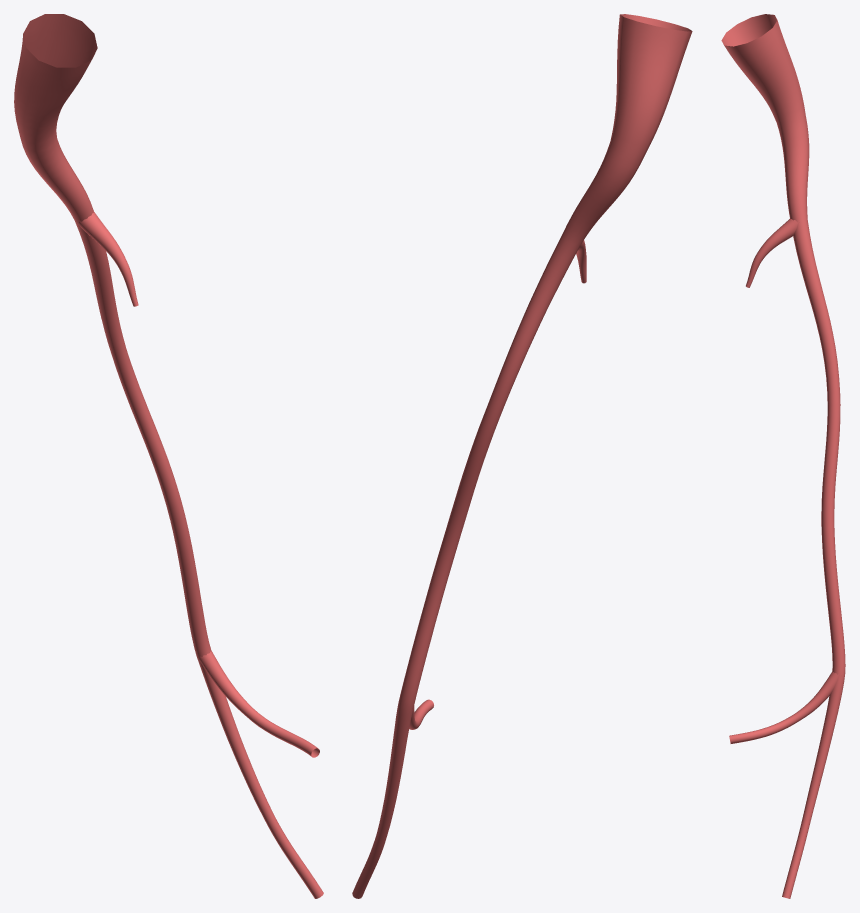
File: Mylohyoid_branch_inferior_alveolar_artery_right.glb
The picture shows the model from 3 angles, left to right: view 1: azimuth 30°, elevation 25°; view 2: azimuth 150°, elevation 25°; view 3: azimuth 270°, elevation 25°; orthographic projection. The views are drawn at different scales.
Parts seen in each view (by area): view 1: Mylohyoid_branch_of_inferior_alveolar_artery.r_BezierCurve.2; view 2: Mylohyoid_branch_of_inferior_alveolar_artery.r_BezierCurve.2; view 3: Mylohyoid_branch_of_inferior_alveolar_artery.r_BezierCurve.2.
Part boxes in pixels (x1,y1,x2,y2): Mylohyoid_branch_of_inferior_alveolar_artery.r_BezierCurve.2: (14, 14, 323, 898); Mylohyoid_branch_of_inferior_alveolar_artery.r_BezierCurve.2: (352, 14, 692, 898); Mylohyoid_branch_of_inferior_alveolar_artery.r_BezierCurve.2: (721, 14, 845, 898).
Bounding box in the file's own units: 0.00678 × 0.0194 × 0.00284.
